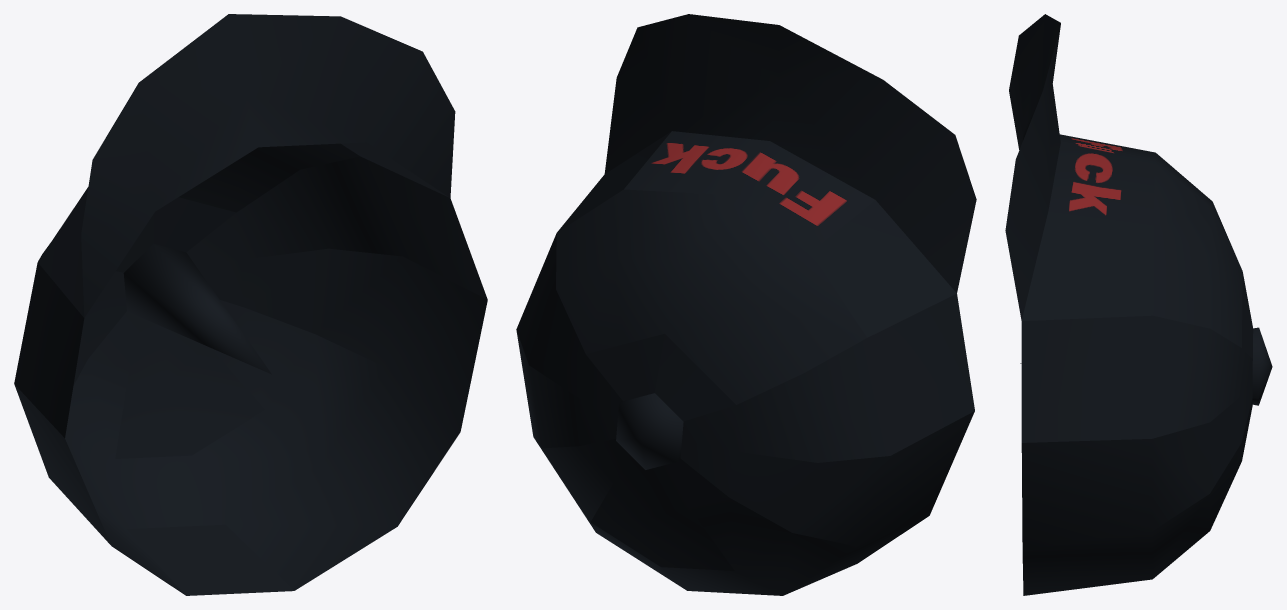
File: YihnieHat.fbx
3 renders of one model, left to right at view 1: azimuth 30°, elevation 25°; view 2: azimuth 150°, elevation 25°; view 3: azimuth 270°, elevation 25°, orthographic. The views are drawn at different scales.
Parts seen in each view (by area): view 1: YihnieHat; view 2: YihnieHat; view 3: YihnieHat.
Boxes of the visible parts, x1,y1,x2,y2 form: YihnieHat: (14,14,487,595); YihnieHat: (516,14,976,595); YihnieHat: (1005,14,1272,595).
Size of the model in its own units: 1122 by 1463 by 653.
1 material, 1 textured.
